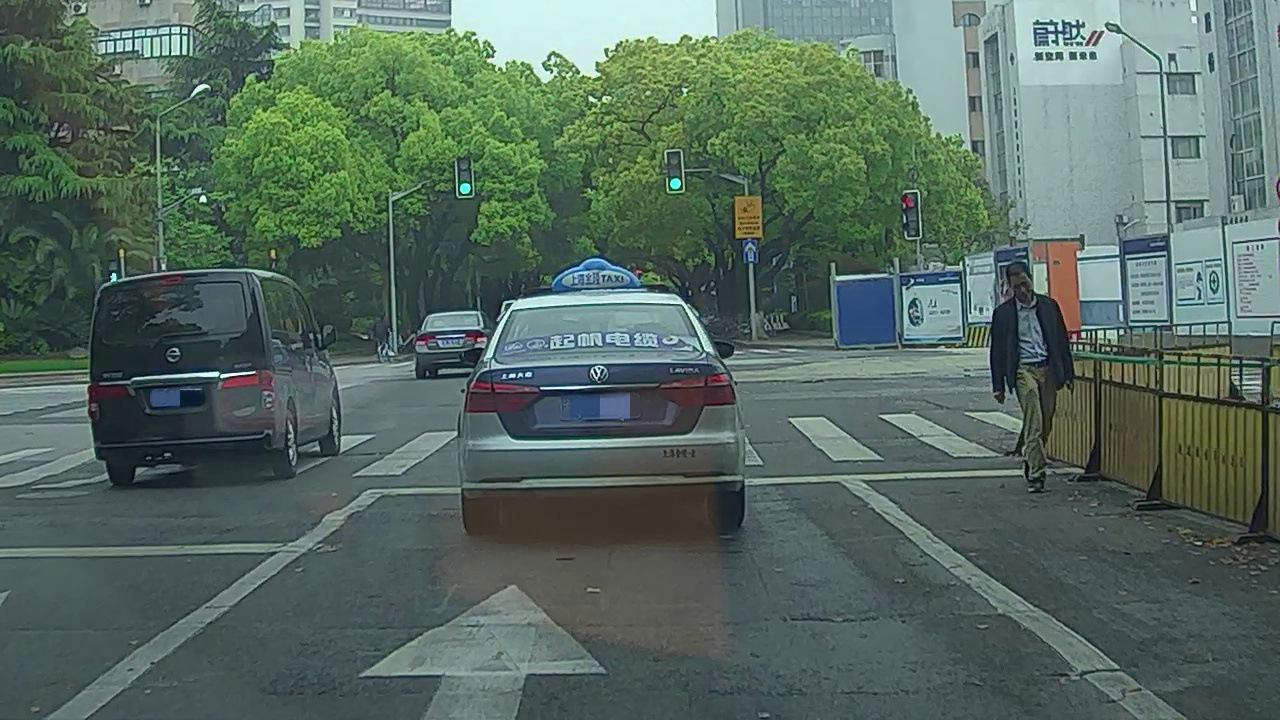traffic_light: (455, 157, 473, 196), (668, 152, 683, 192)
